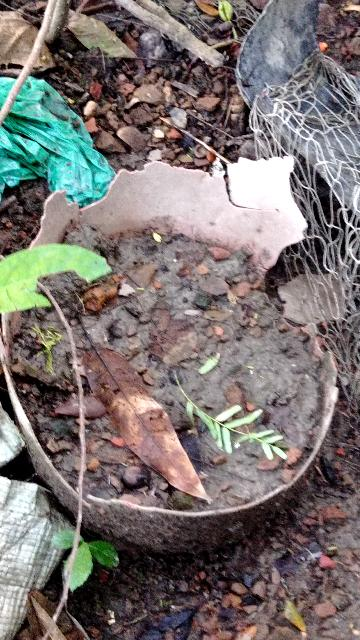hardplastic: (90, 149, 360, 294)
